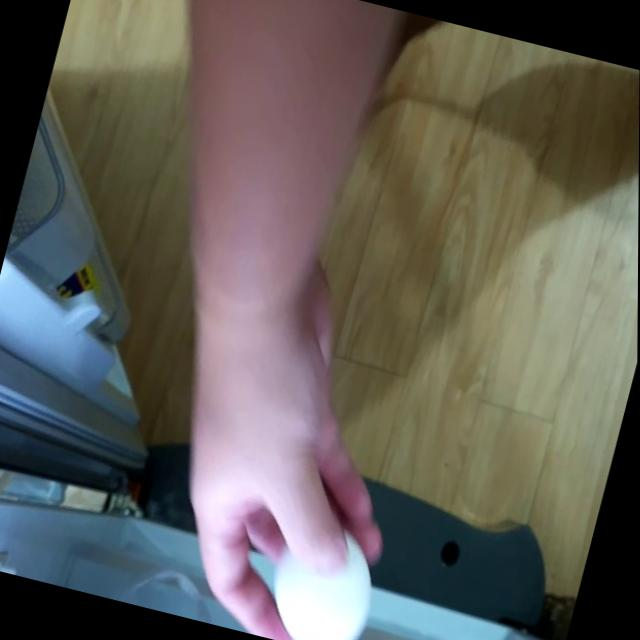egg: (256, 511, 393, 640)
